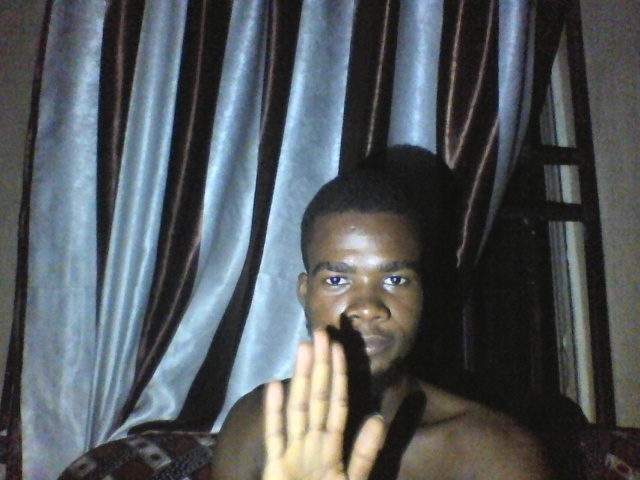hello: (260, 329, 385, 480)
